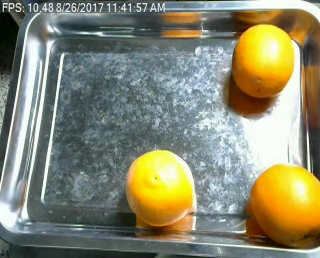Orange: (251, 163, 320, 248), (125, 149, 196, 227), (232, 22, 295, 97)
